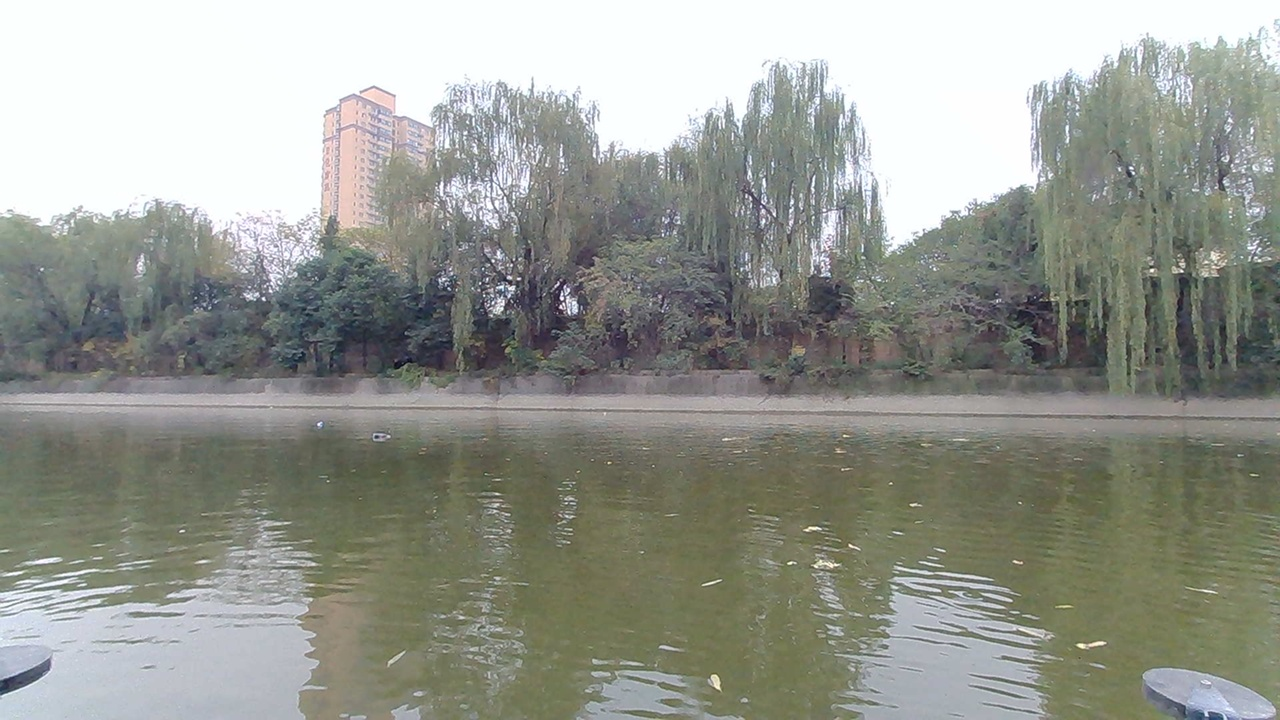bottle: (354, 424, 399, 456), (305, 413, 338, 436)
